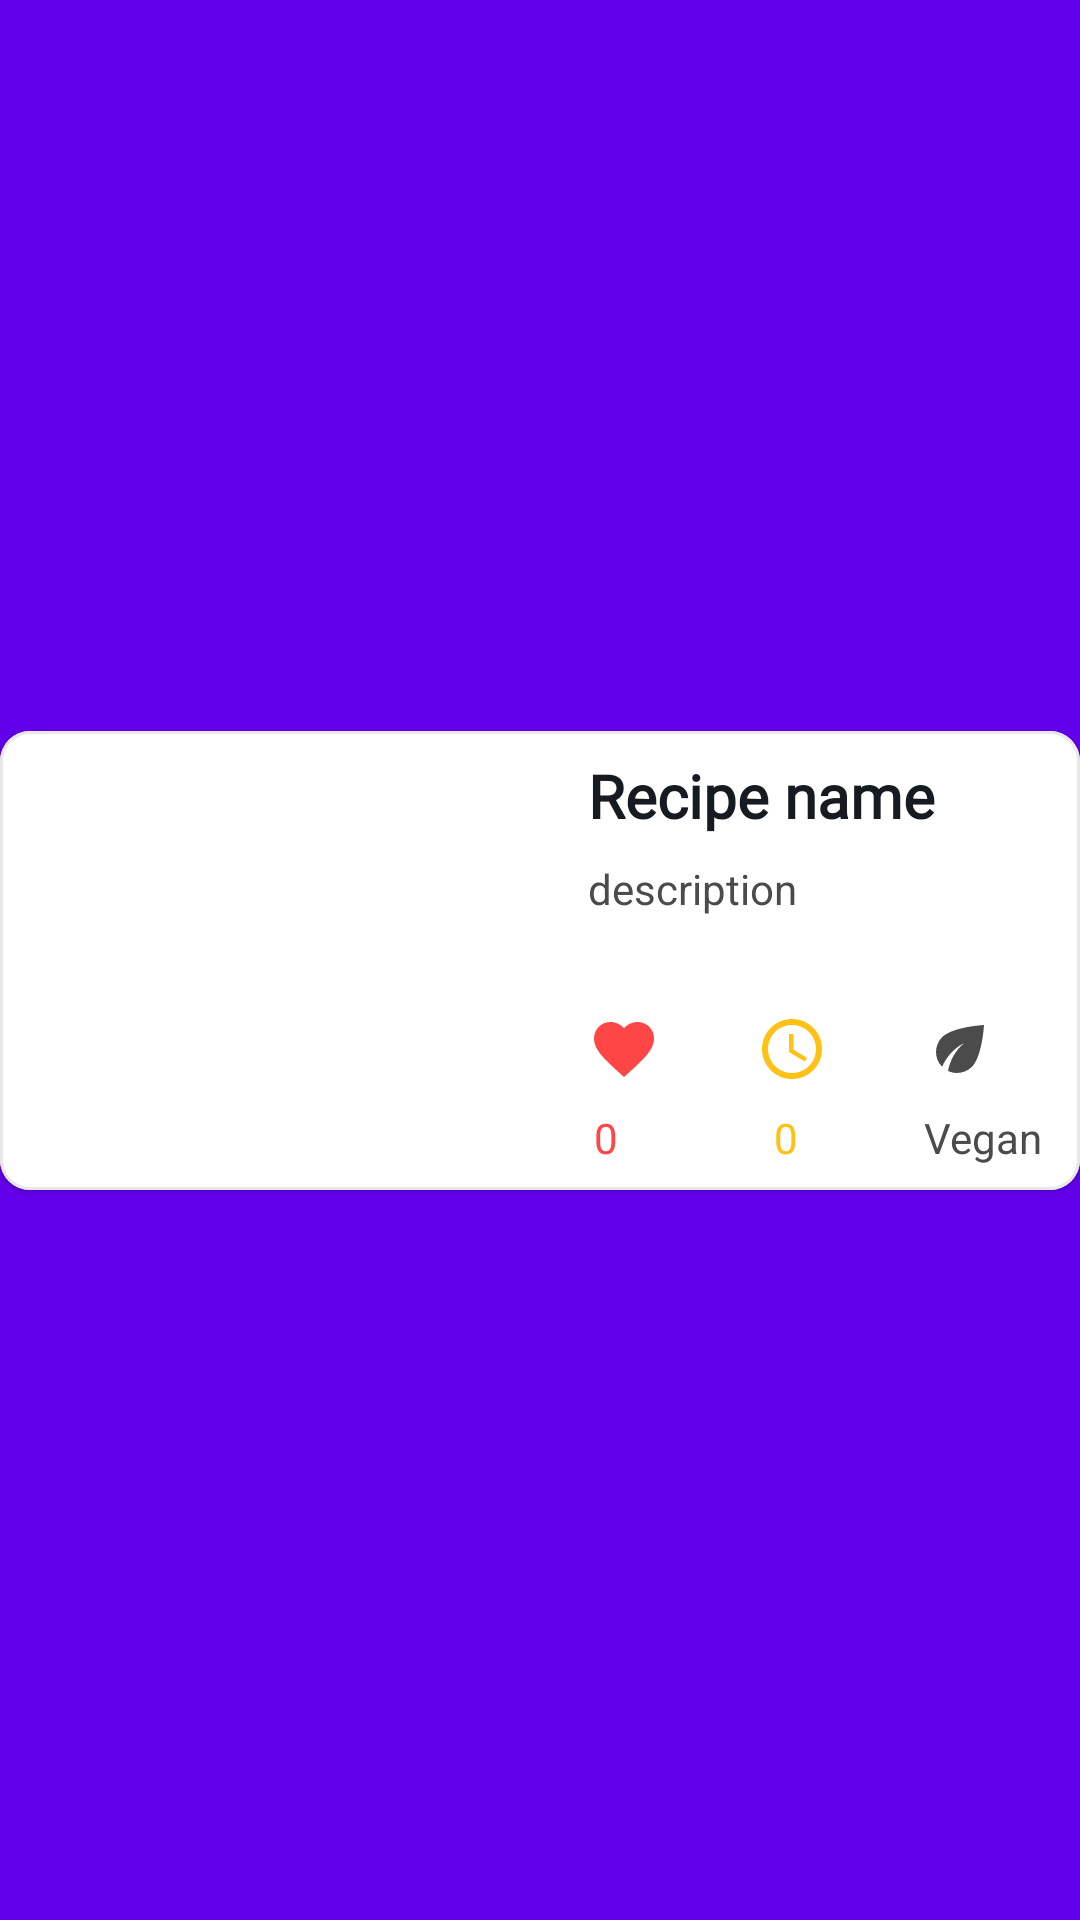

Named icons in this screenshot (1080px x 1920px) and their centers, [x,y]:
access time: [792,1049]
heart: [624,1049]
leaf: [960,1049]
